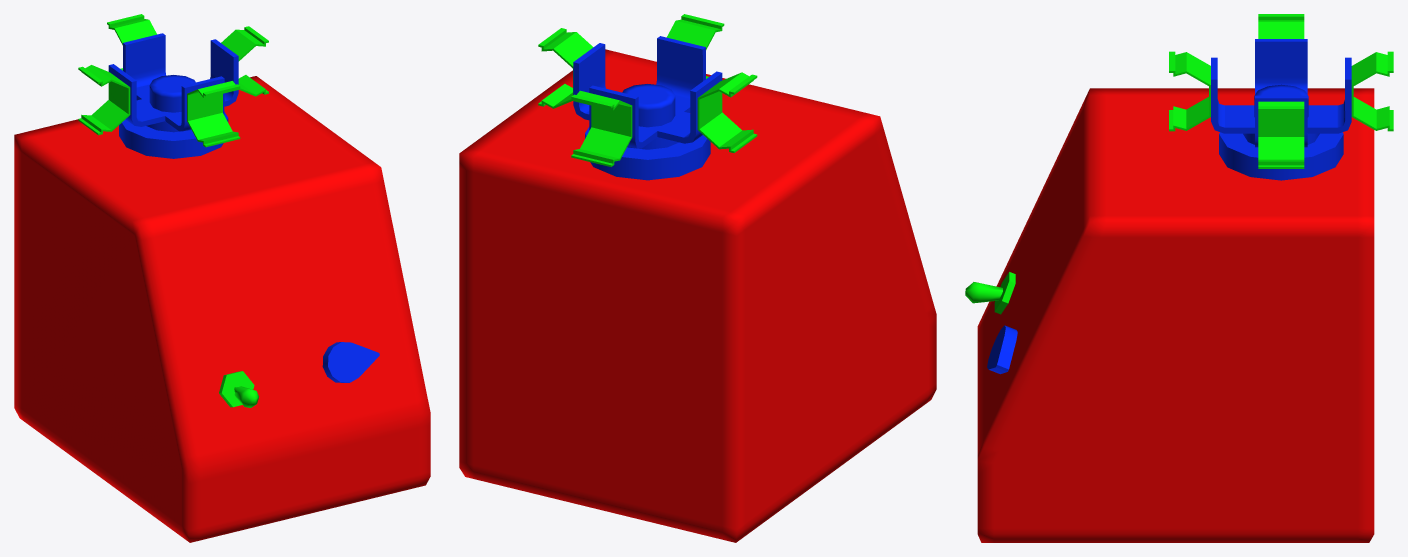
Rendered from Vortex Genie.FBX.
3 renders of one model, left to right at view 1: azimuth 30°, elevation 25°; view 2: azimuth 150°, elevation 25°; view 3: azimuth 270°, elevation 25°, orthographic. The views are drawn at different scales.
Parts seen in each view (by area): view 1: Vortex Genie; view 2: Vortex Genie; view 3: Vortex Genie.
Part boxes in pixels (x1,y1,x2,y2): Vortex Genie: (14, 14, 430, 542); Vortex Genie: (459, 14, 936, 542); Vortex Genie: (965, 14, 1393, 542).
Bounding box in the file's own units: 6 × 8.72 × 8.08.
